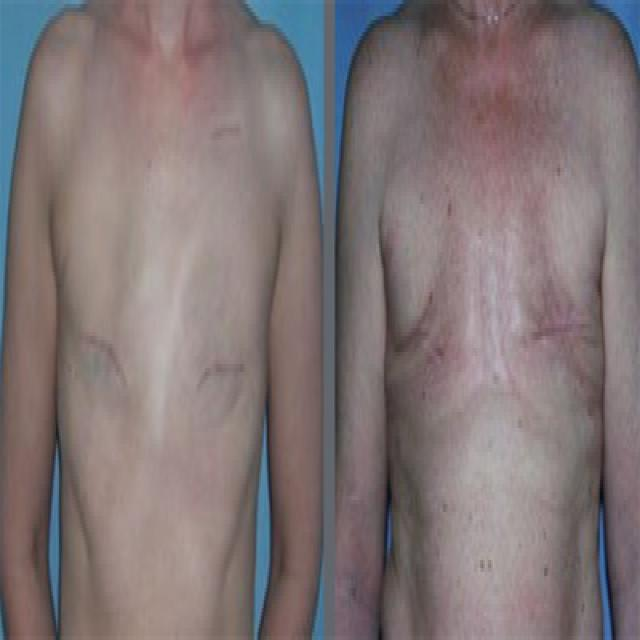Seno herido: (163, 250, 262, 472), (369, 200, 468, 421), (505, 201, 604, 422), (52, 246, 150, 467)
